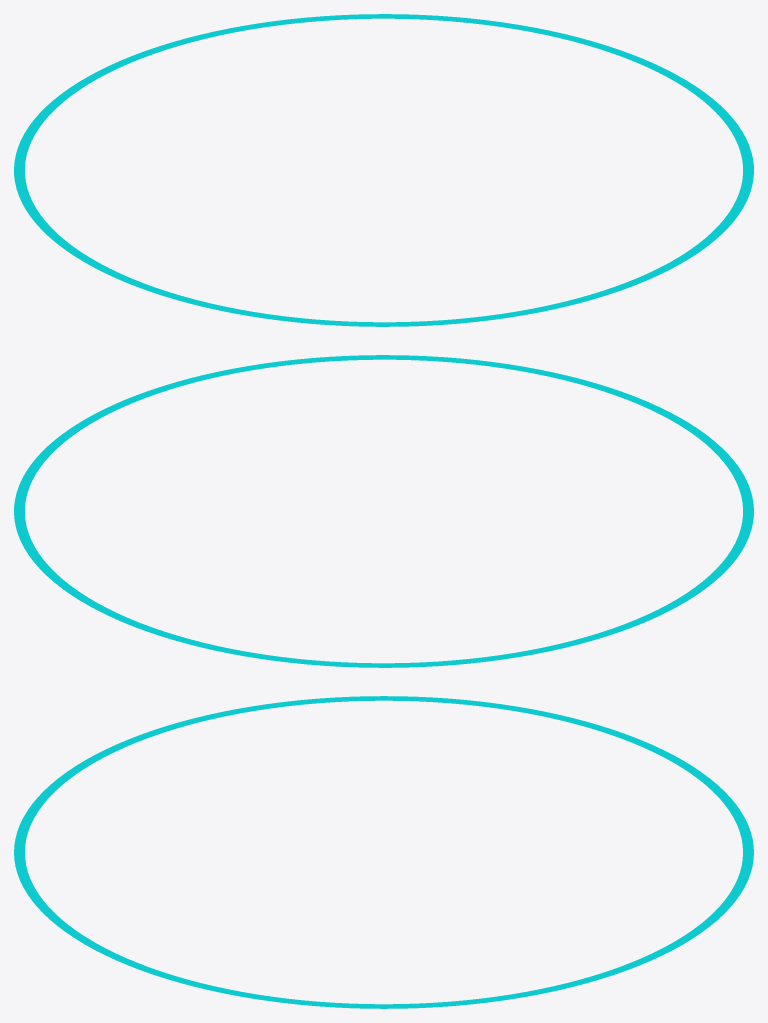
The model's file is ring_03.fbx.
3 renders of one model, top to bottom at view 1: azimuth 30°, elevation 25°; view 2: azimuth 150°, elevation 25°; view 3: azimuth 270°, elevation 25°, orthographic.
Parts seen in each view (by area): view 1: polySurface398; view 2: polySurface398; view 3: polySurface398.
Part boxes in pixels (x1,y1,x2,y2): polySurface398: (14,14,753,326); polySurface398: (14,355,753,667); polySurface398: (14,696,753,1008).
Size of the model in its own units: 616 by 0 by 616.
